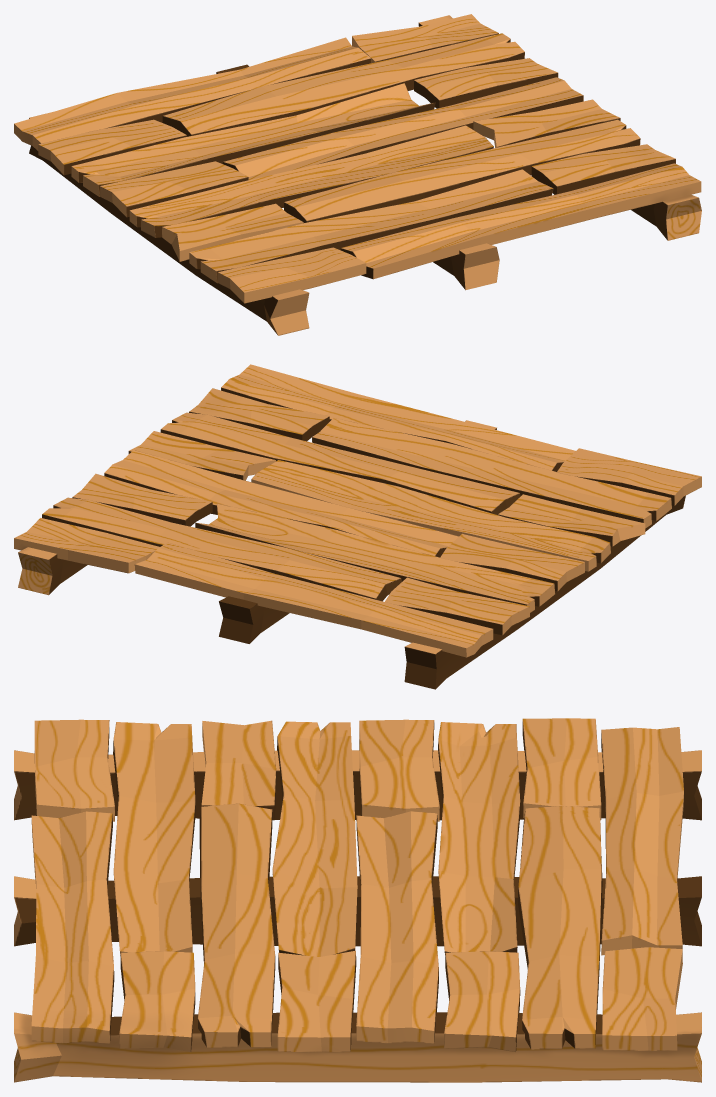
The model's file is Plank_1.fbx.
The picture shows the model from 3 angles, top to bottom: view 1: azimuth 30°, elevation 25°; view 2: azimuth 150°, elevation 25°; view 3: azimuth 270°, elevation 25°; orthographic projection. The views are drawn at different scales.
Visible parts, largest first — view 1: Cube.002; view 2: Cube.002; view 3: Cube.002.
Boxes of the visible parts, x1,y1,x2,y2 form: Cube.002: [14, 14, 701, 335]; Cube.002: [14, 364, 701, 689]; Cube.002: [14, 718, 701, 1082].
Bounding box in the file's own units: 1998 × 205 × 1844.
